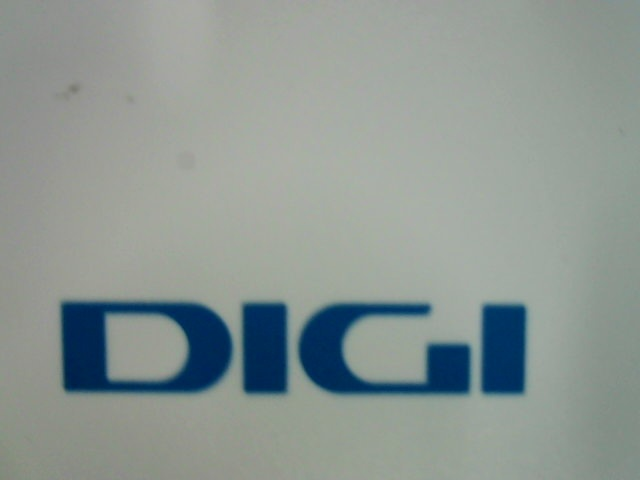BL_DIGI: (51, 279, 545, 405)
